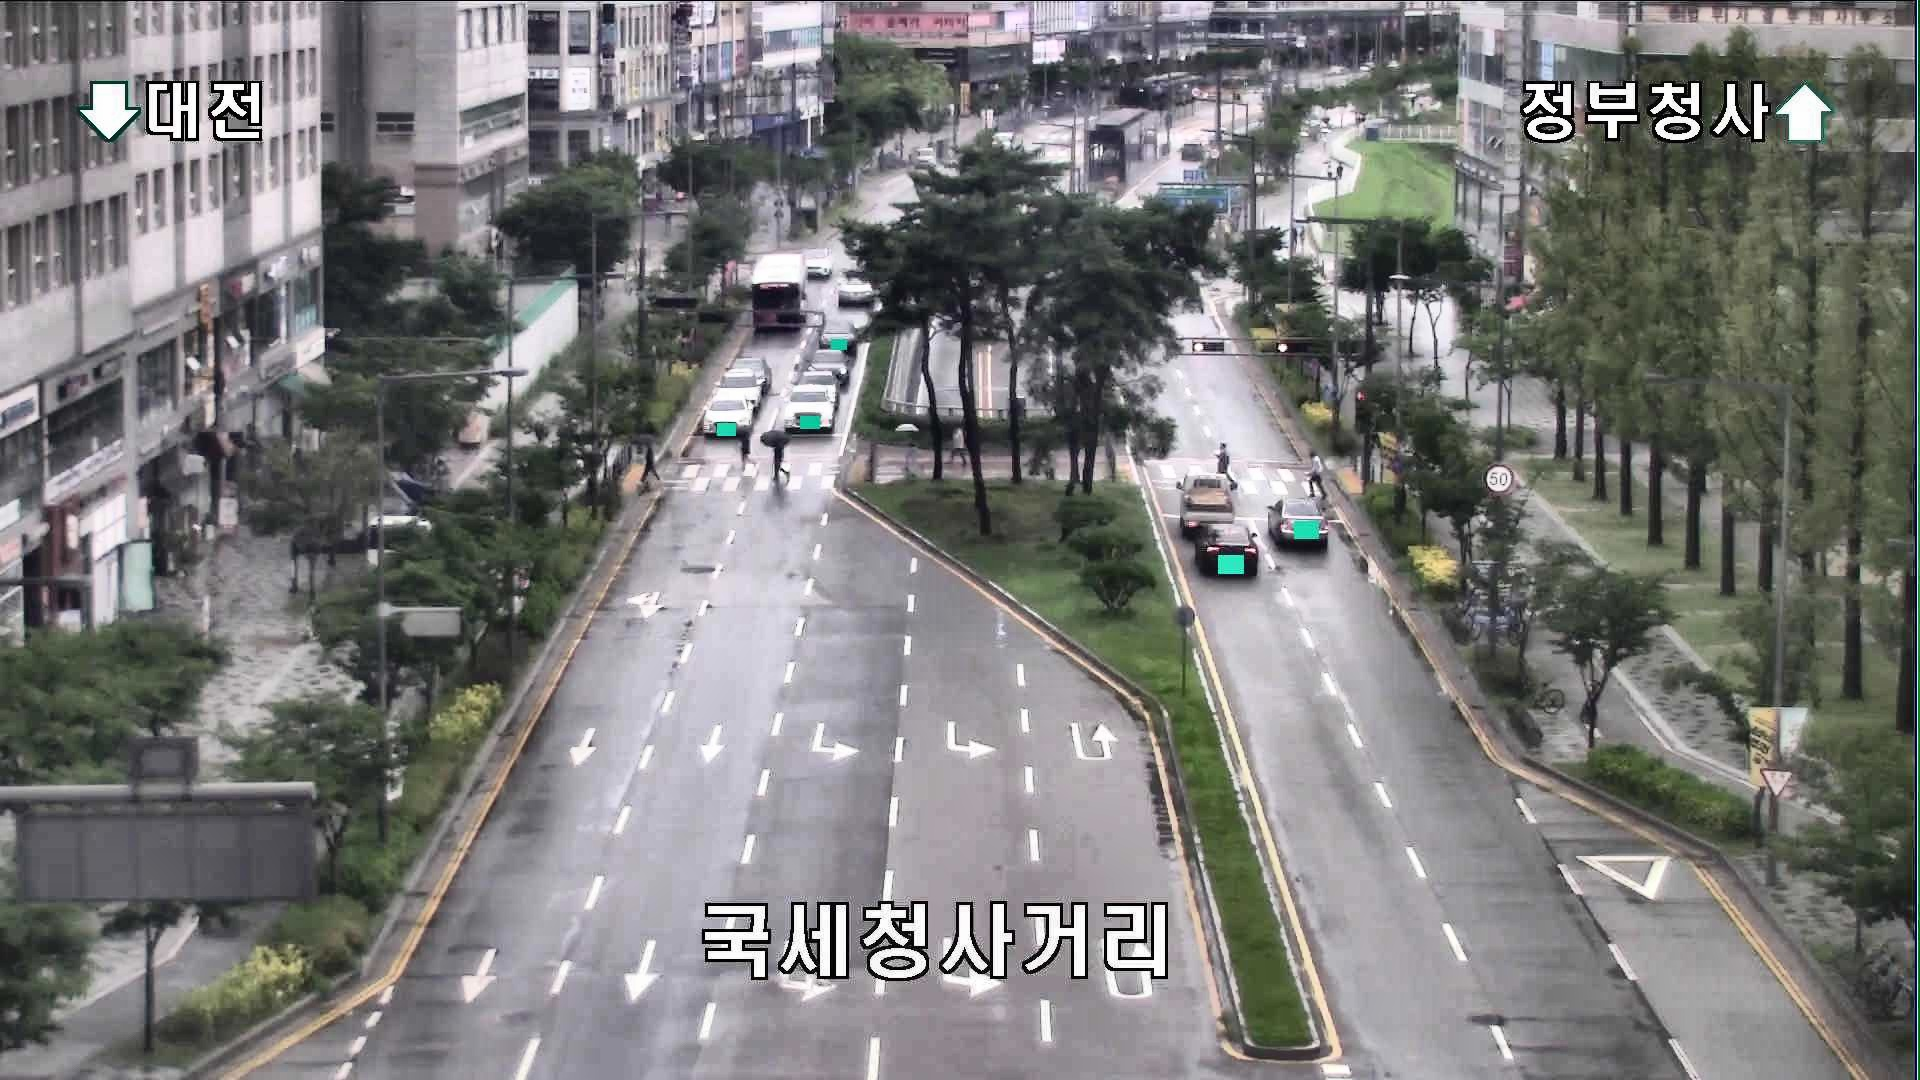crosswalk: (1302, 448, 1327, 498), (1215, 440, 1237, 491)
um_crosswalk: (760, 431, 791, 481), (636, 434, 663, 485), (895, 425, 924, 471), (943, 415, 967, 471), (728, 425, 752, 471)
